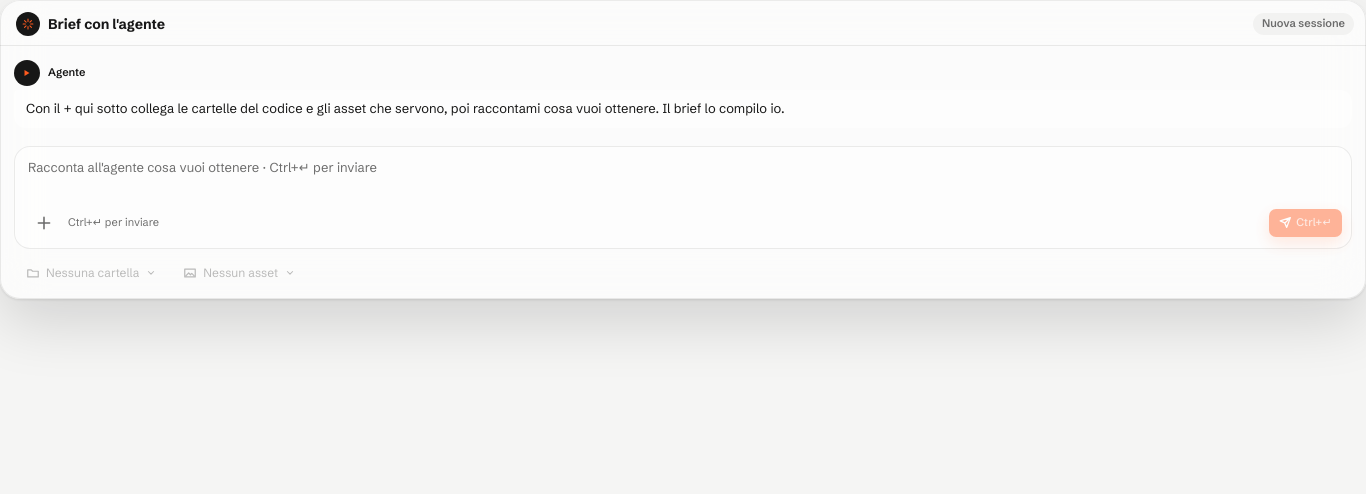
Test: BriefSessionPanel (decisions 1412–1414) › the "+" opens the context menu with its three items; Escape closes it
This screenshot has width=1366, height=494.
Click the button named "Aggiungi cartelle o asset".
click(44, 222)  # box [28,206,60,238]
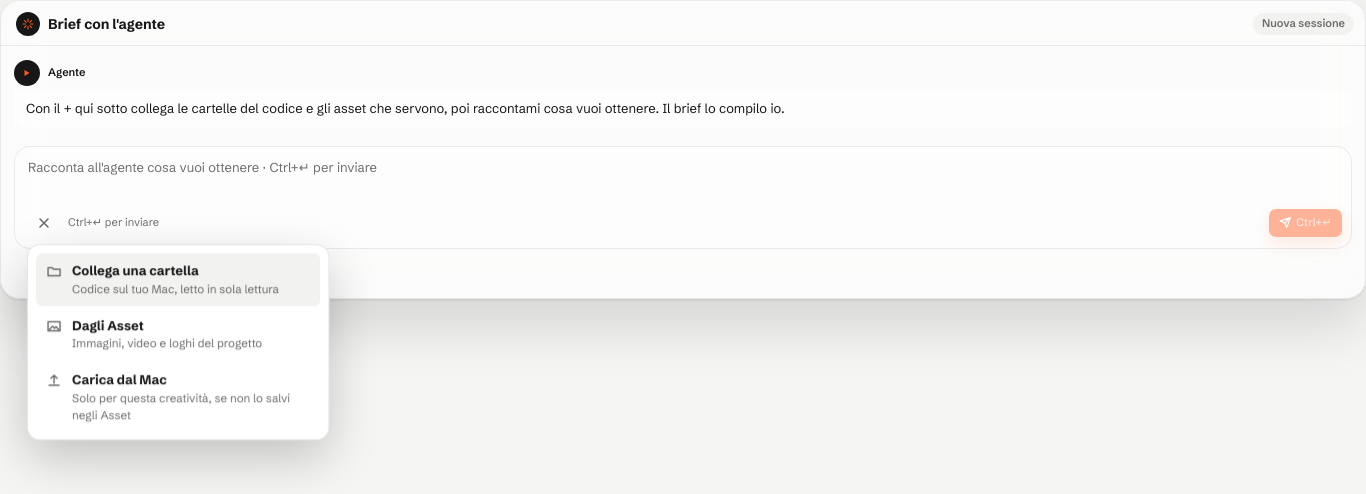
Check: the button named "Aggiungi cartelle o asset" is expanded, box [28,206,60,238]
Check: the menu items read "Collega una cartellaCodice sul tuo Mac, letto in sola lettura", "Dagli AssetImmagini, video e loghi del progetto", "Carica dal MacSolo per questa creatività, se non lo salvi negli Asset", in this order, box [36,252,320,305]; [36,307,320,360]; [36,362,320,431]
Press Escape
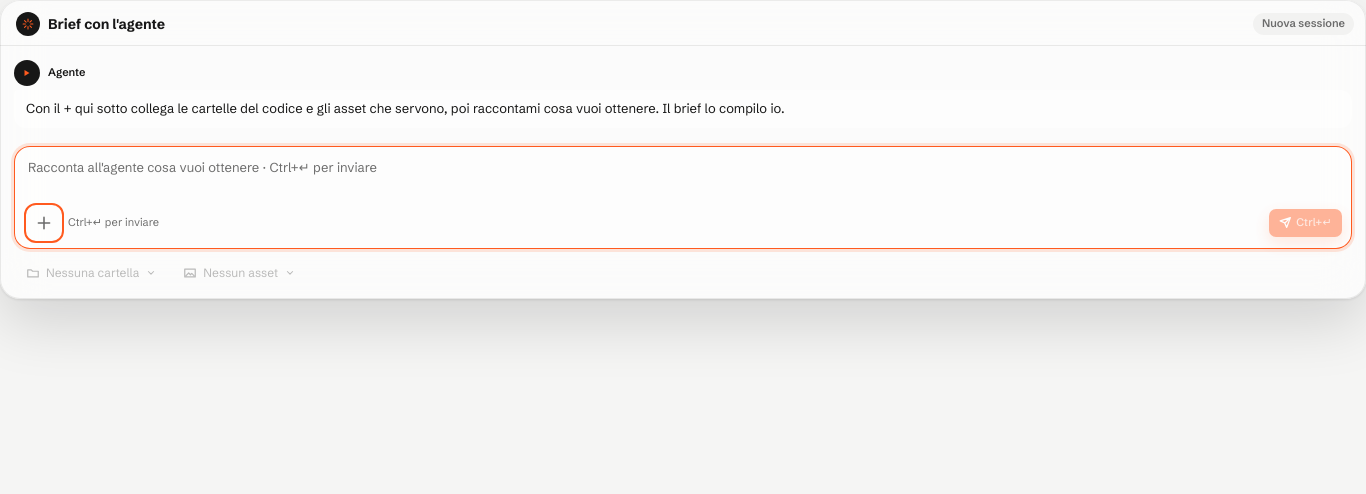
Check: the menu is gone
Check: the button named "Aggiungi cartelle o asset" is collapsed, box [28,206,60,238]
